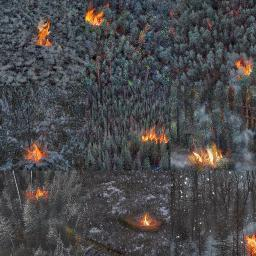Small fire: (187, 144, 232, 172), (137, 121, 172, 150), (18, 139, 49, 170), (30, 17, 59, 50), (83, 5, 109, 30), (132, 209, 159, 232), (25, 181, 50, 205), (232, 55, 256, 79), (238, 232, 256, 256)
